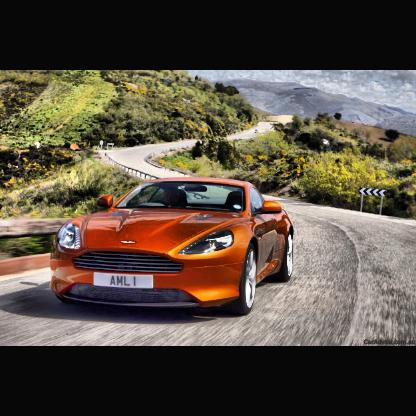Aston Martin Virage Coupe 2012: (50, 176, 297, 320)
